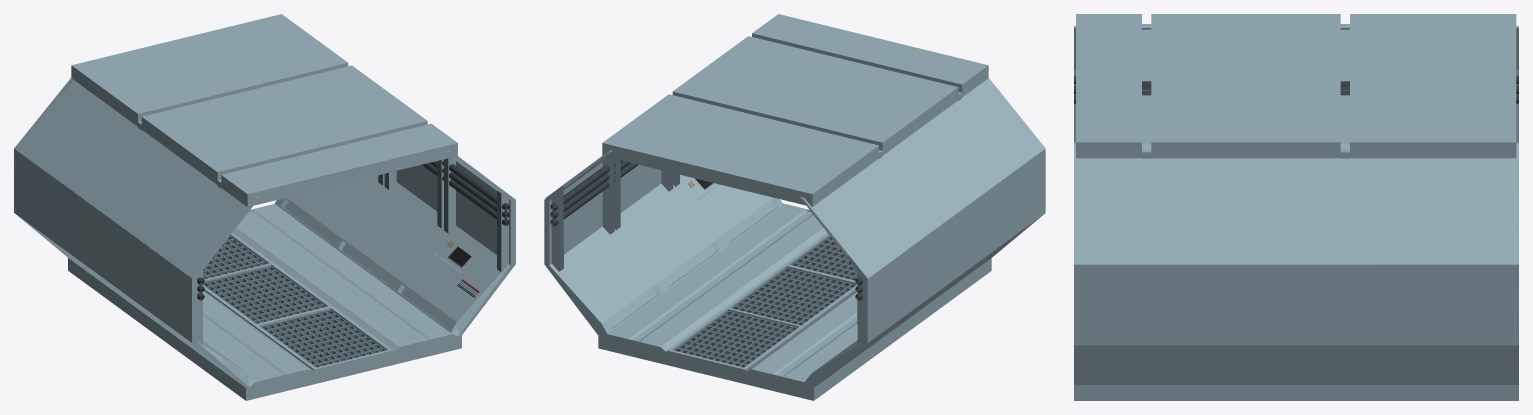
The model's file is fLOOR.fbx.
The picture shows the model from 3 angles, left to right: view 1: azimuth 30°, elevation 25°; view 2: azimuth 150°, elevation 25°; view 3: azimuth 270°, elevation 25°; orthographic projection. The views are drawn at different scales.
Parts seen in each view (by area): view 1: Cube, Cube.002, Cube.001, Cube.004, Cylinder.005, Cylinder.004, Cylinder.003; view 2: Cube, Cube.002, Cube.001, Cube.004, Cylinder.005, Cylinder.004, Cylinder.003; view 3: Cube, Cube.002.
Boxes of the visible parts, box(x1,y1,x2,y2) form: Cube: box(14, 78, 515, 400); Cube.002: box(71, 14, 457, 206); Cube.001: box(203, 236, 385, 367); Cube.004: box(284, 201, 452, 327); Cylinder.005: box(421, 163, 509, 225); Cylinder.004: box(429, 161, 509, 218); Cylinder.003: box(442, 160, 509, 210); Cube: box(544, 78, 1045, 400); Cube.002: box(602, 14, 988, 206); Cube.001: box(674, 236, 856, 367); Cube.004: box(608, 201, 775, 328); Cylinder.005: box(550, 163, 638, 226); Cylinder.004: box(550, 161, 630, 218); Cylinder.003: box(550, 160, 622, 210); Cube: box(1074, 26, 1518, 400); Cube.002: box(1076, 14, 1516, 158).
Bounding box in the file's own units: 1054 × 637 × 1000.
